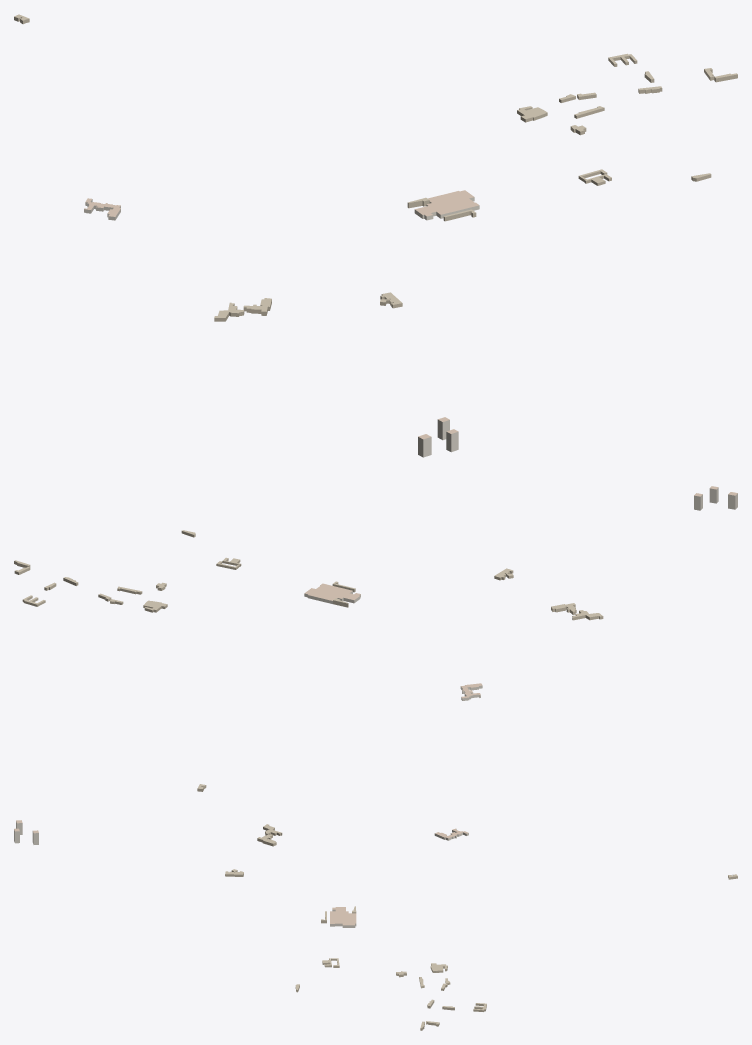
3 views of the same model, one above another, from view 1: azimuth 30°, elevation 25°; view 2: azimuth 150°, elevation 25°; view 3: azimuth 270°, elevation 25° (orthographic). The views are drawn at different scales.
Size of the model in its own units: 1442 by 39.13 by 2151.
